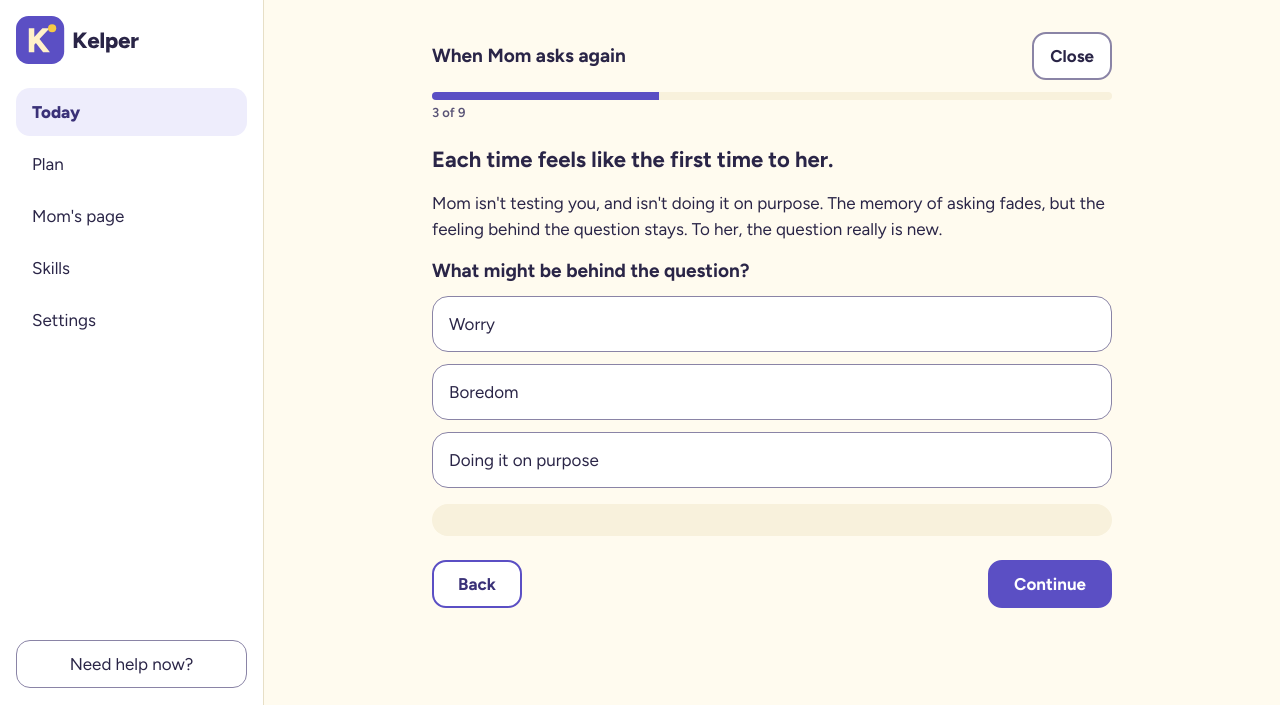
plan screen › shows the cue, an empty box with a hint and requires words
This screenshot has width=1280, height=705.
Earlier steps of the test are not shown.
What coordinates should you click on to do the following:
click the button "Continue"
I would click on:
 (1050, 584)
Its box is x1=988 y1=560 x2=1112 y2=608.
(page scrolled)
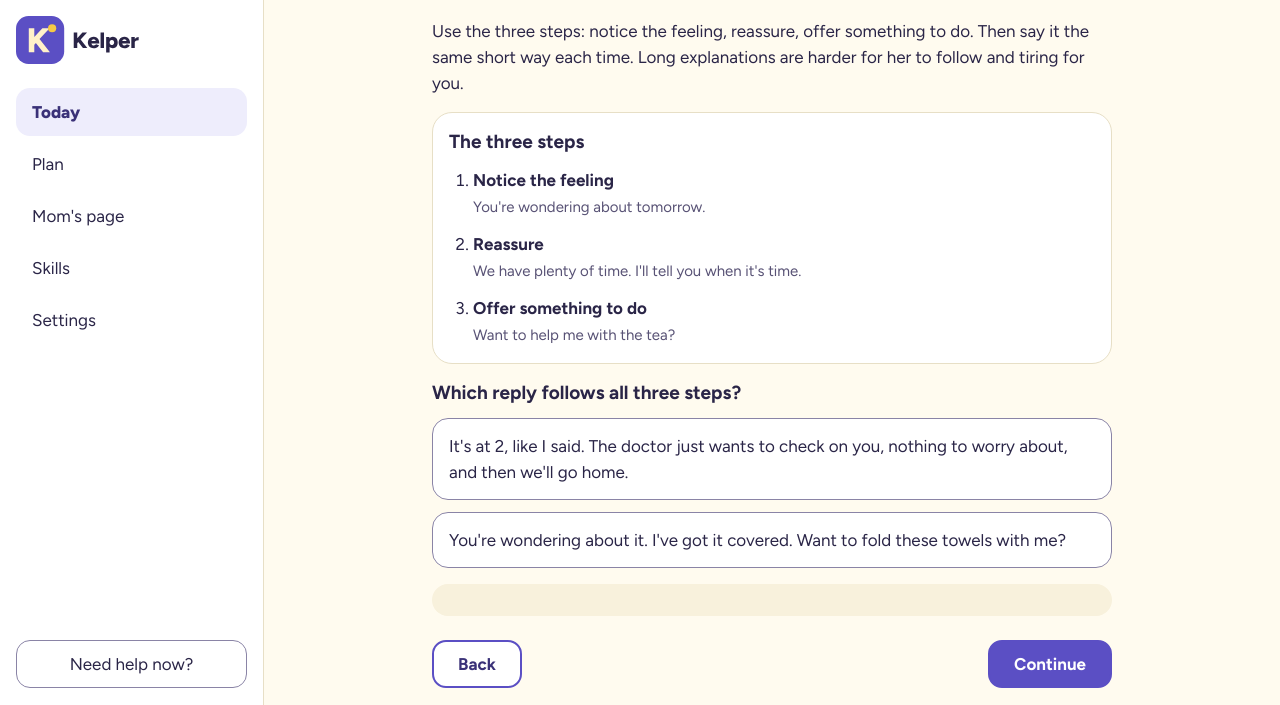
What coordinates should you click on to do the following:
click the button "Continue"
I would click on:
 (1050, 664)
Its box is x1=988 y1=640 x2=1112 y2=688.
(page scrolled)
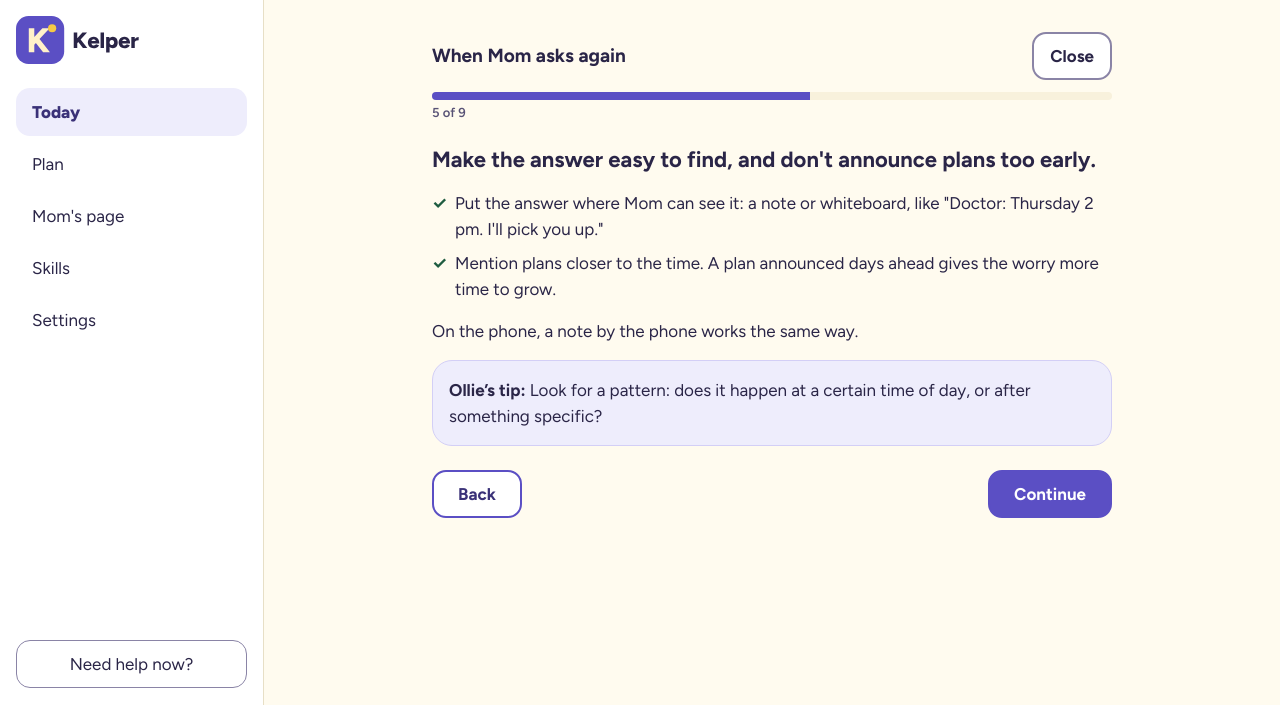
What coordinates should you click on to do the following:
click the button "Continue"
I would click on:
 (1050, 494)
Its box is x1=988 y1=470 x2=1112 y2=518.
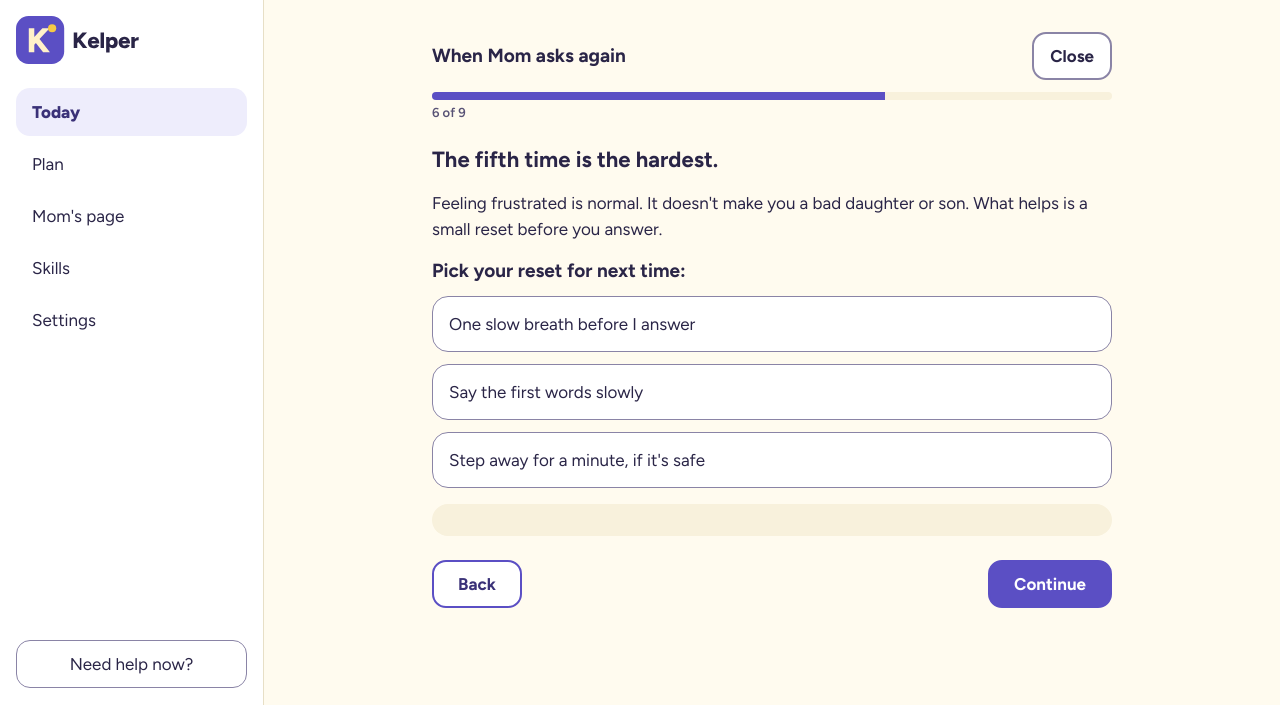
What coordinates should you click on to do the following:
click the button "Continue"
I would click on:
 (1050, 584)
Its box is x1=988 y1=560 x2=1112 y2=608.
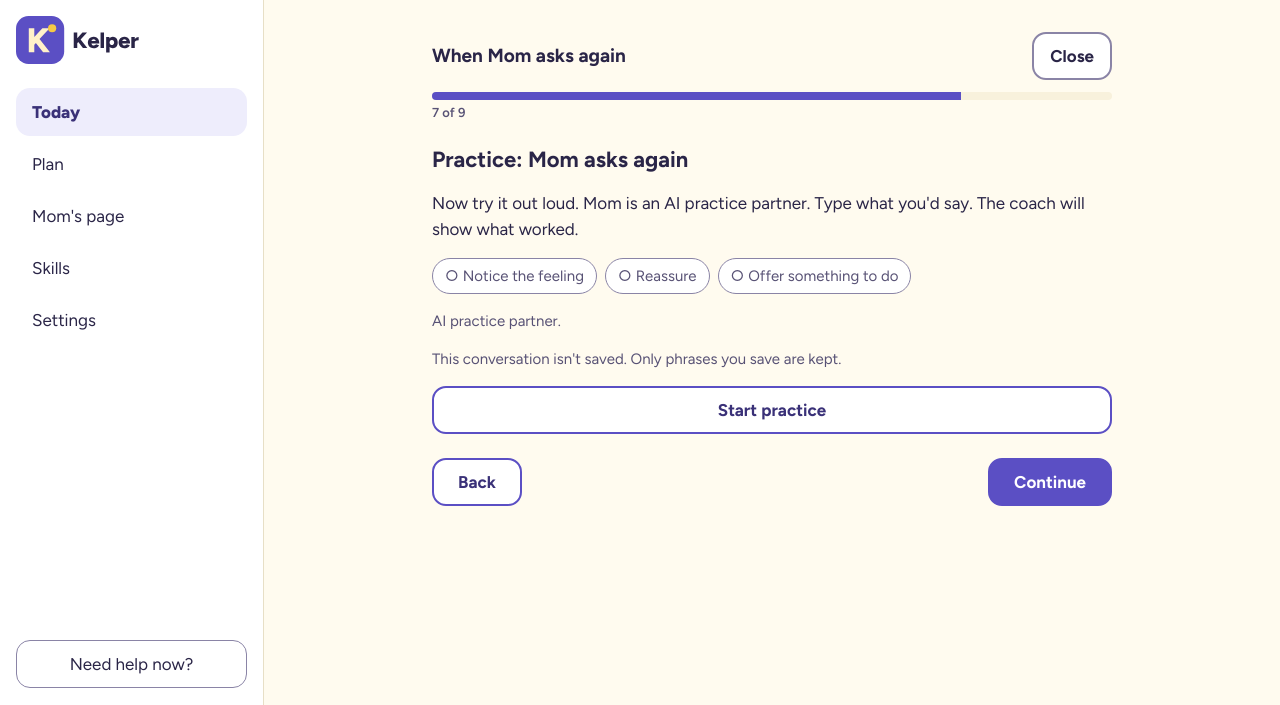
What coordinates should you click on to do the following:
click the button "Continue"
I would click on:
 (1050, 482)
Its box is x1=988 y1=458 x2=1112 y2=506.
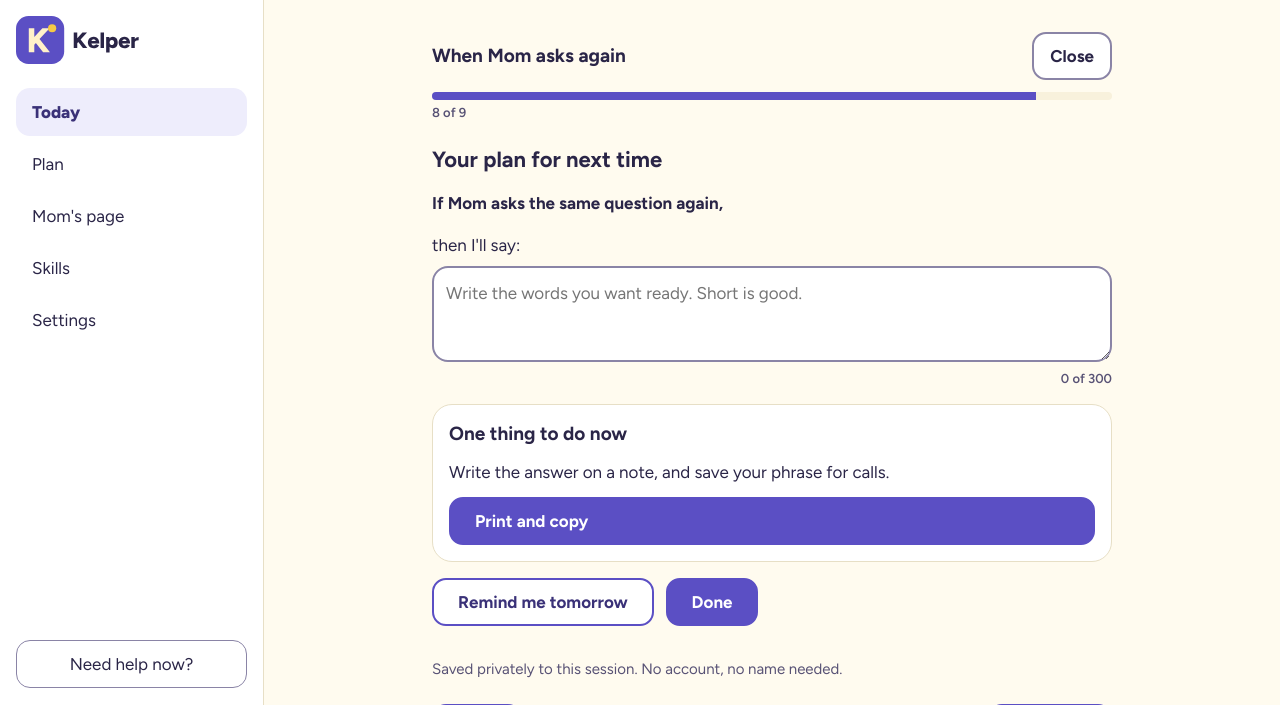
Expected: the heading "Your plan for next time" is shown, x1=432 y1=146 x2=662 y2=173
Expected: the text "If Mom asks the same question again," is shown, x1=432 y1=193 x2=723 y2=213
Expected: the text box labelled "then I'll say:" is empty, x1=432 y1=266 x2=1112 y2=362
What coordinates should you click on to do the following:
click the button "Done"
I would click on:
 (712, 602)
Its box is x1=666 y1=578 x2=758 y2=626.
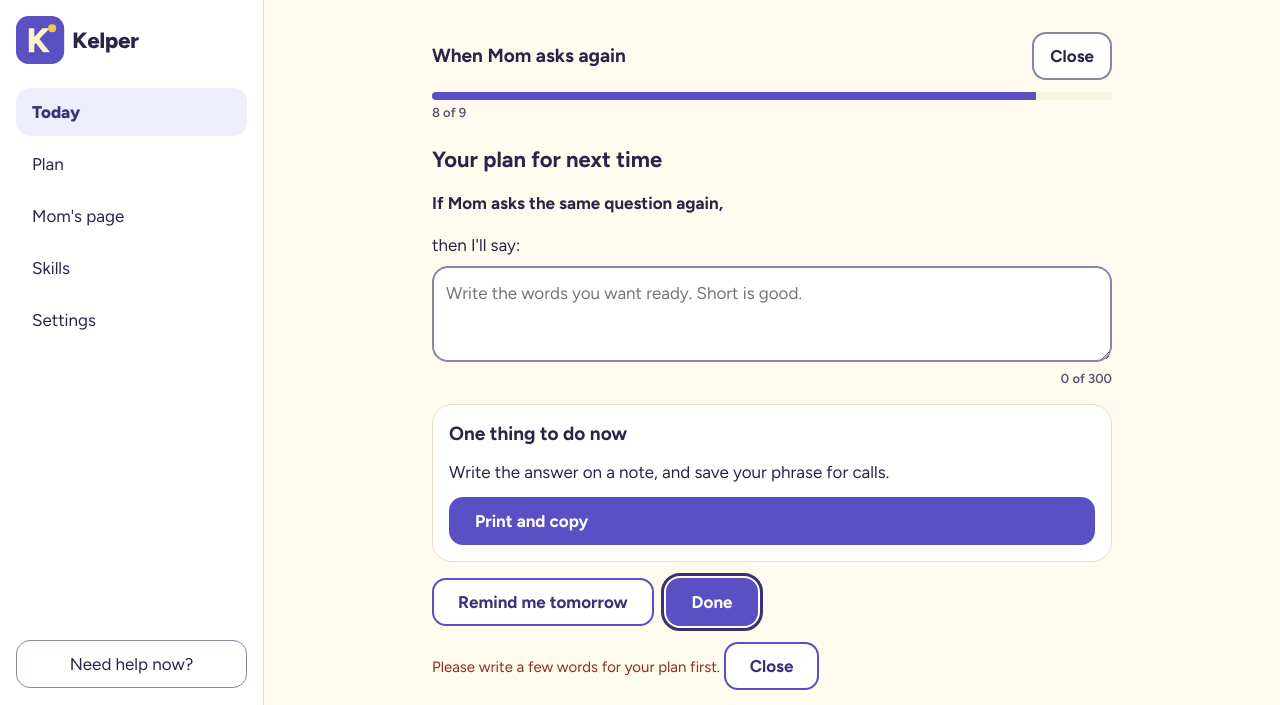
Expected: the message shows "write a few words", x1=432 y1=658 x2=720 y2=676
